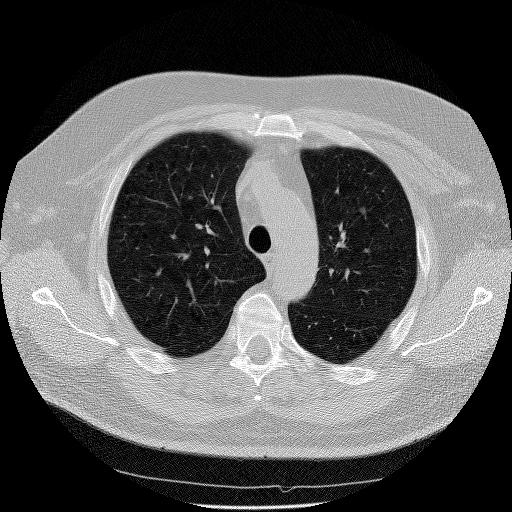nodule: (356, 204, 367, 215)
